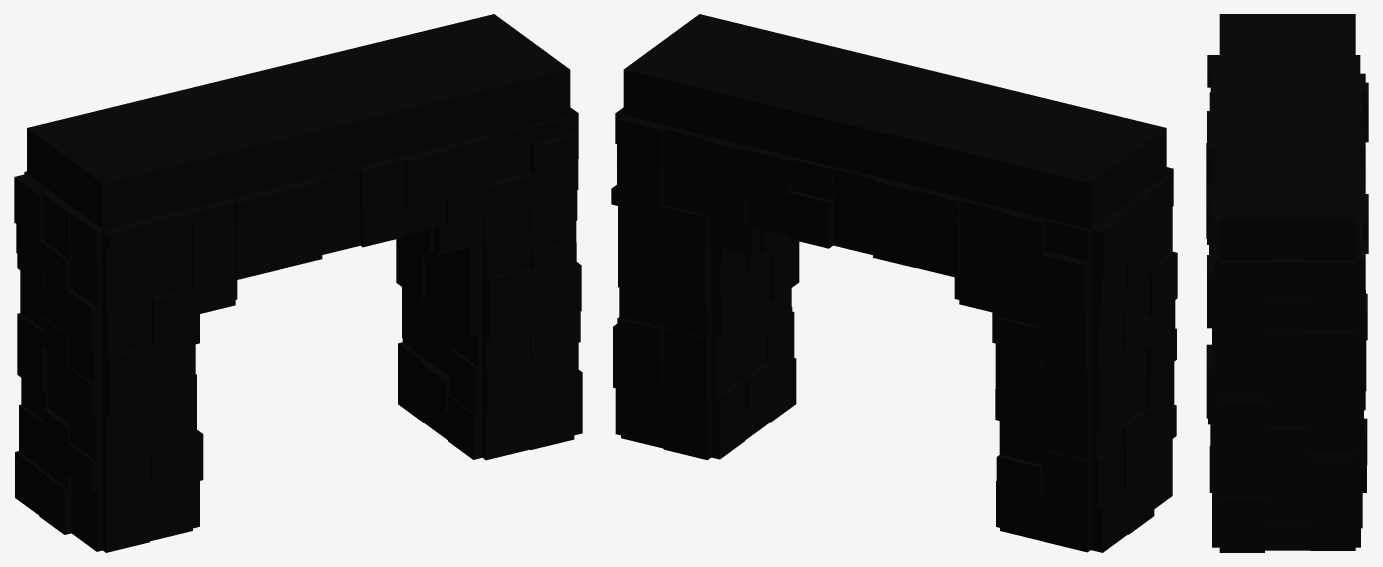
The model's file is IceArch.obj.
3 renders of one model, left to right at view 1: azimuth 30°, elevation 25°; view 2: azimuth 150°, elevation 25°; view 3: azimuth 270°, elevation 25°, orthographic. The views are drawn at different scales.
Visible parts, largest first — view 1: IceArch; view 2: IceArch; view 3: IceArch.
Part boxes in pixels (left/top/right/bottom): IceArch: left=14, top=14, right=582, bottom=552; IceArch: left=611, top=14, right=1177, bottom=552; IceArch: left=1206, top=14, right=1368, bottom=552.
Size of the model in its own units: 33.73 by 24 by 10.75.
